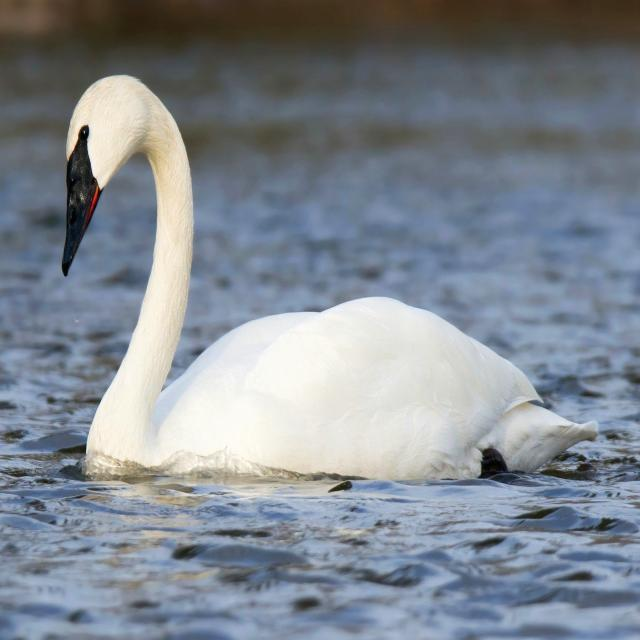swan: (62, 75, 597, 480)
